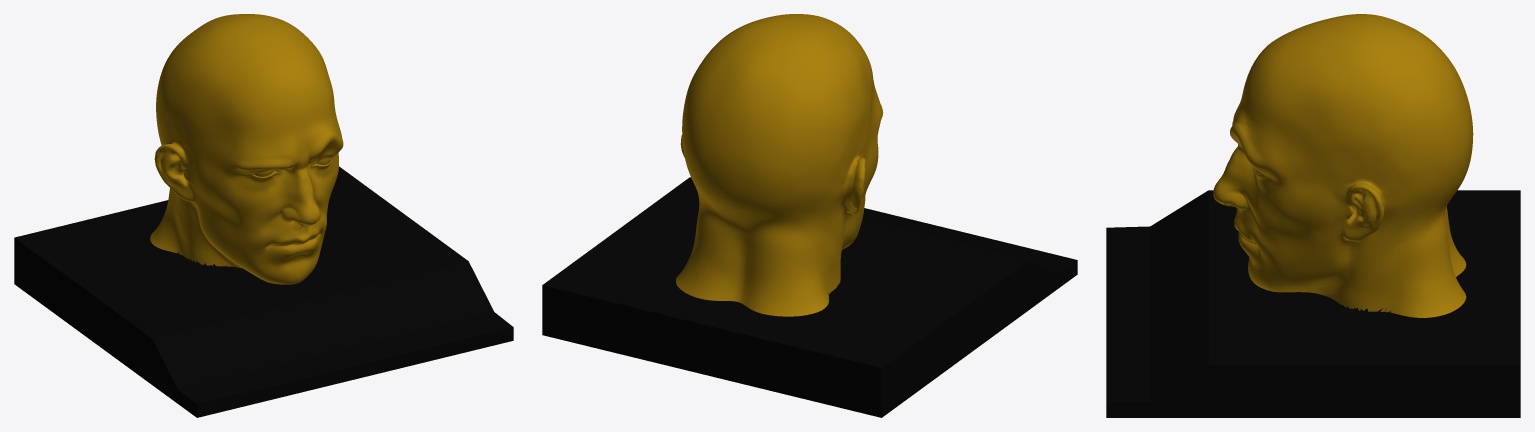
The picture shows the model from 3 angles, left to right: view 1: azimuth 30°, elevation 25°; view 2: azimuth 150°, elevation 25°; view 3: azimuth 270°, elevation 25°; orthographic projection. The views are drawn at different scales.
Visible parts, largest first — view 1: base.020, Merged_PM3D_Sphere3D1_Merged_PM3D_Sphere3D1_0; view 2: base.020, Merged_PM3D_Sphere3D1_Merged_PM3D_Sphere3D1_0; view 3: base.020, Merged_PM3D_Sphere3D1_Merged_PM3D_Sphere3D1_0.
Part boxes in pixels (bbox=[...]): base.020: bbox=[14, 166, 513, 417]; Merged_PM3D_Sphere3D1_Merged_PM3D_Sphere3D1_0: bbox=[150, 14, 343, 284]; base.020: bbox=[542, 177, 1077, 417]; Merged_PM3D_Sphere3D1_Merged_PM3D_Sphere3D1_0: bbox=[676, 14, 883, 316]; base.020: bbox=[1106, 190, 1520, 417]; Merged_PM3D_Sphere3D1_Merged_PM3D_Sphere3D1_0: bbox=[1213, 14, 1473, 317].
Size of the model in its own units: 79.88 by 65.83 by 79.88.
